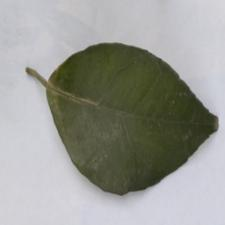Healthy: (44, 35, 200, 192)
